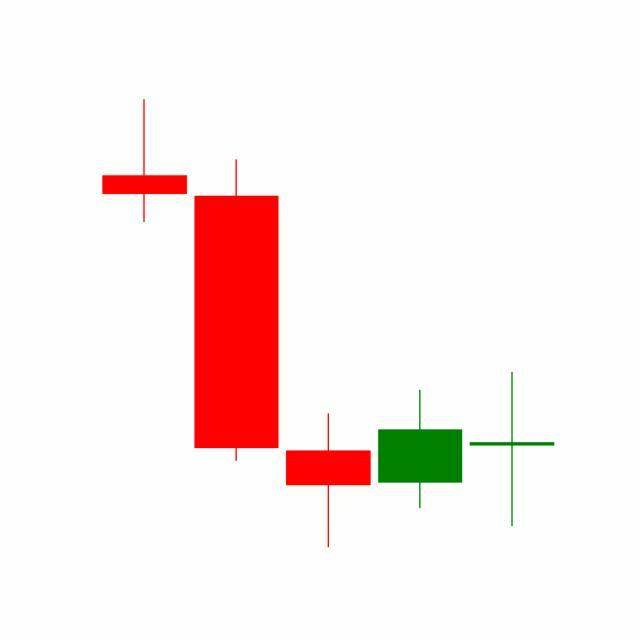Upside-Downside Gap Three Methods: (190, 155, 467, 548)
